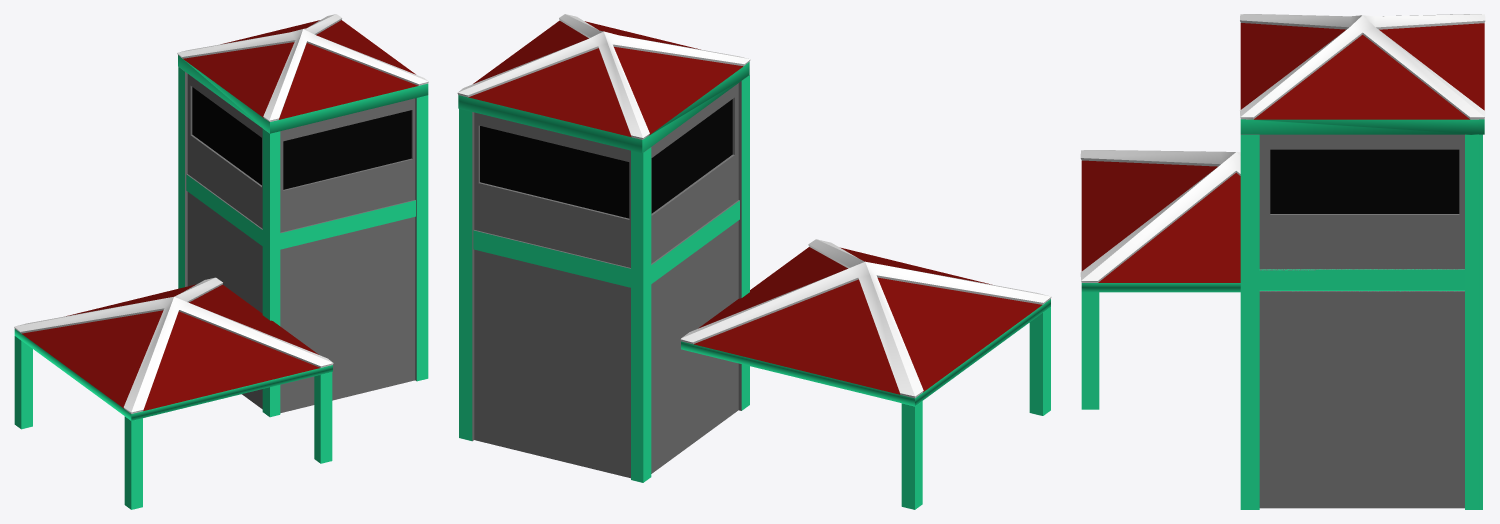
File: Tower.obj
The picture shows the model from 3 angles, left to right: view 1: azimuth 30°, elevation 25°; view 2: azimuth 150°, elevation 25°; view 3: azimuth 270°, elevation 25°; orthographic projection. The views are drawn at different scales.
Parts seen in each view (by area): view 1: Tower:Tower Tower:Tower_Roof Tower:polySurface2 Tower:polySurfac, Tower:group1 Tower:pPyramid1 Tower:polySurface2 Tower:polySurfac, Tower:Tower_Roof Tower:pasted__group1 Tower:pasted__pPyramid2 To, Tower:group1 Tower:pCube24 Tower:polySurface2 Tower:polySurface1, Tower:group1 Tower:pCube23 Tower:polySurface2 Tower:polySurface1, Tower:group1 Tower:pCube25 Tower:polySurface2 Tower:polySurface1; view 2: Tower:Tower Tower:Tower_Roof Tower:polySurface2 Tower:polySurfac, Tower:group1 Tower:pPyramid1 Tower:polySurface2 Tower:polySurfac, Tower:Tower_Roof Tower:pasted__group1 Tower:pasted__pPyramid2 To, Tower:group1 Tower:pCube25 Tower:polySurface2 Tower:polySurface1, Tower:group1 Tower:pCube24 Tower:polySurface2 Tower:polySurface1; view 3: Tower:Tower Tower:Tower_Roof Tower:polySurface2 Tower:polySurfac, Tower:Tower_Roof Tower:pasted__group1 Tower:pasted__pPyramid2 To, Tower:group1 Tower:pPyramid1 Tower:polySurface2 Tower:polySurfac, Tower:group1 Tower:pCube23 Tower:polySurface2 Tower:polySurface1.
Part boxes in pixels (left/top/right/bottom): Tower:Tower Tower:Tower_Roof Tower:polySurface2 Tower:polySurfac: left=178, top=67, right=428, bottom=417; Tower:group1 Tower:pPyramid1 Tower:polySurface2 Tower:polySurfac: left=14, top=277, right=333, bottom=420; Tower:Tower_Roof Tower:pasted__group1 Tower:pasted__pPyramid2 To: left=177, top=14, right=428, bottom=133; Tower:group1 Tower:pCube24 Tower:polySurface2 Tower:polySurface1: left=124, top=416, right=142, bottom=509; Tower:group1 Tower:pCube23 Tower:polySurface2 Tower:polySurface1: left=314, top=372, right=332, bottom=463; Tower:group1 Tower:pCube25 Tower:polySurface2 Tower:polySurface1: left=14, top=336, right=32, bottom=429; Tower:Tower Tower:Tower_Roof Tower:polySurface2 Tower:polySurfac: left=459, top=75, right=749, bottom=482; Tower:group1 Tower:pPyramid1 Tower:polySurface2 Tower:polySurfac: left=680, top=239, right=1051, bottom=406; Tower:Tower_Roof Tower:pasted__group1 Tower:pasted__pPyramid2 To: left=457, top=14, right=750, bottom=153; Tower:group1 Tower:pCube25 Tower:polySurface2 Tower:polySurface1: left=901, top=401, right=922, bottom=509; Tower:group1 Tower:pCube24 Tower:polySurface2 Tower:polySurface1: left=1029, top=307, right=1050, bottom=415; Tower:Tower Tower:Tower_Roof Tower:polySurface2 Tower:polySurfac: left=1240, top=134, right=1482, bottom=509; Tower:Tower_Roof Tower:pasted__group1 Tower:pasted__pPyramid2 To: left=1240, top=14, right=1485, bottom=134; Tower:group1 Tower:pPyramid1 Tower:polySurface2 Tower:polySurfac: left=1080, top=150, right=1240, bottom=292; Tower:group1 Tower:pCube23 Tower:polySurface2 Tower:polySurface1: left=1081, top=292, right=1099, bottom=409.
Size of the model in its own units: 17.53 by 15.68 by 12.96.
